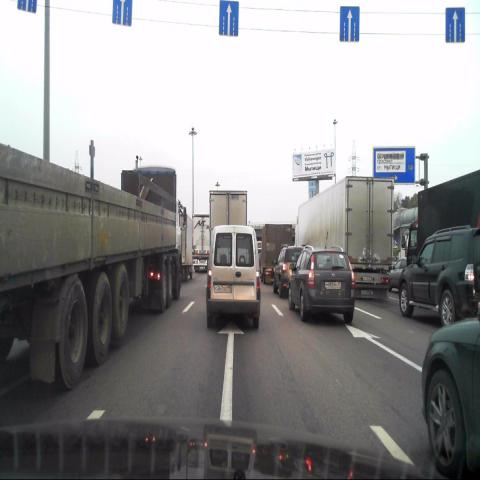5_15_2: (340, 6, 360, 41)
